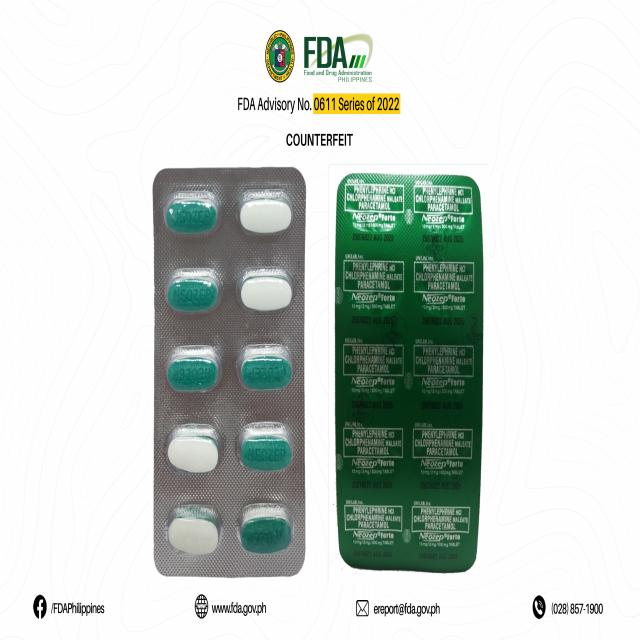counterfeit: (151, 163, 306, 580), (336, 169, 486, 570)
